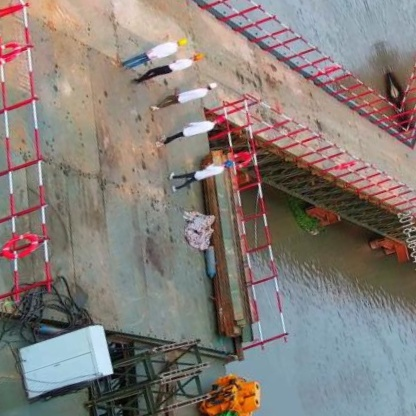blue: (224, 158, 236, 168)
red: (217, 114, 228, 124)
white: (208, 80, 219, 90)
yellow: (177, 36, 190, 47)
